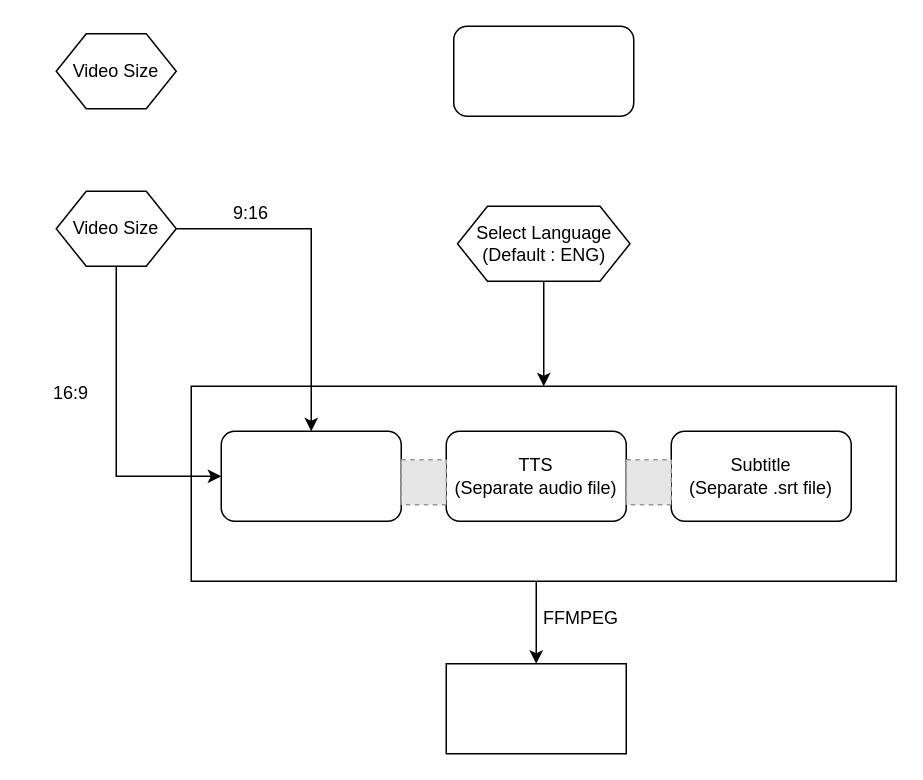
Some shapes in this 923 by 780 pixel diagram are drawn without their labels. Grey dashed boxes stand in for pictures. Here are the shapes that lost their labels. From the top down, the centre of each, then its label:
the point at 310,475: Video
the point at 535,708: Output Video (with TTS, Subtitle)
